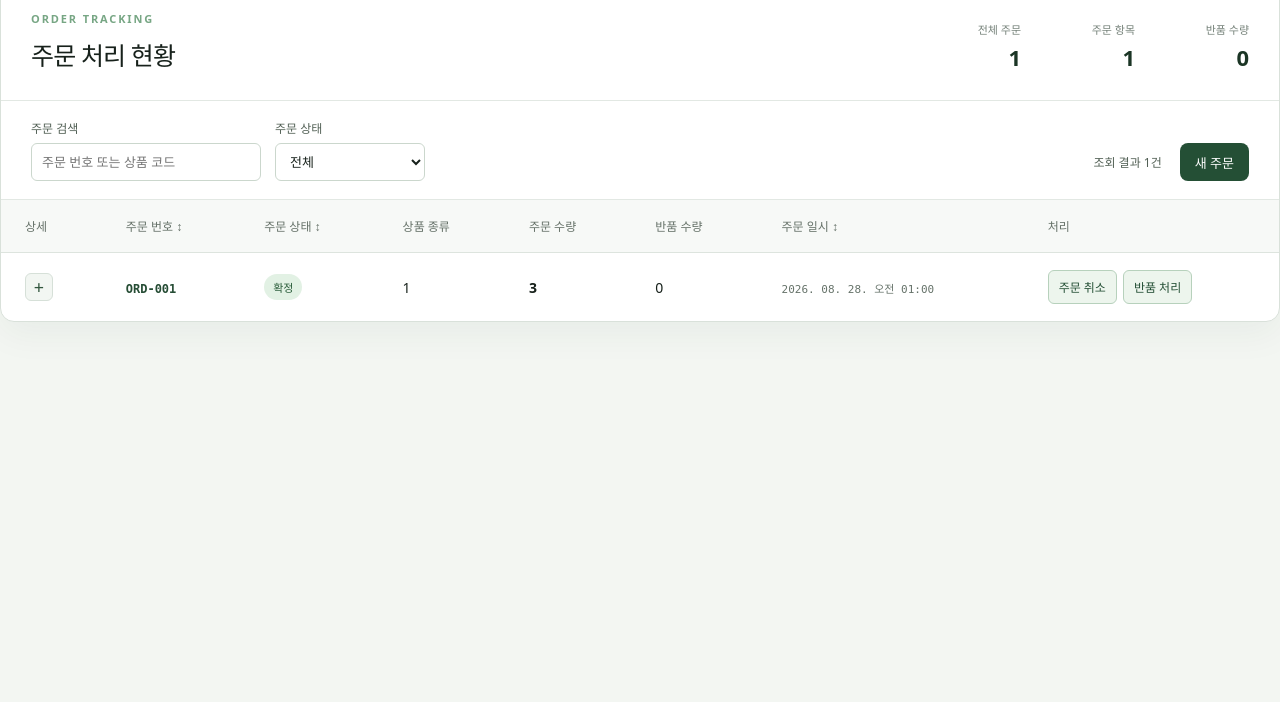
Test: OrderPage › 반품 요청 실패 후 같은 수량으로 재시도하면 멱등키를 재사용한다
Click the button with aria-label "ORD-001 반품 처리" at [1158, 287], box [1123,270,1192,304]
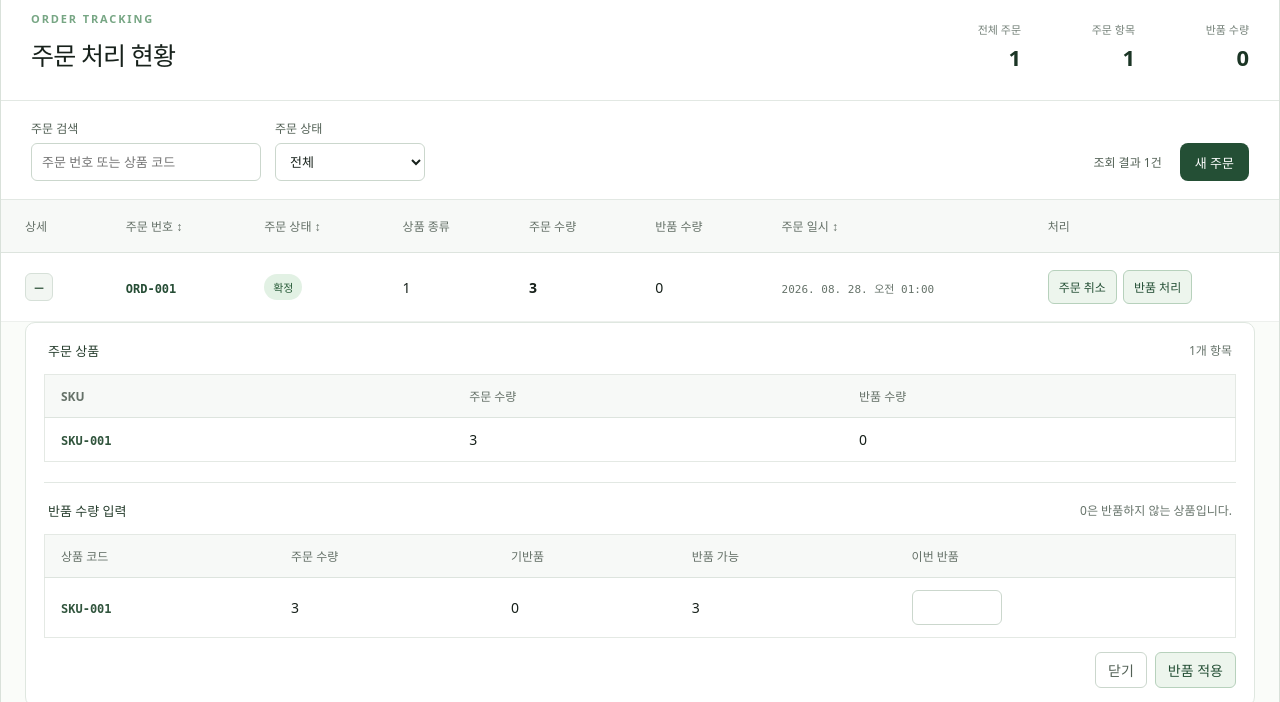
Type "3" into the number field named "SKU-001 반품 수량" at [957, 608], box [912,590,1002,625]
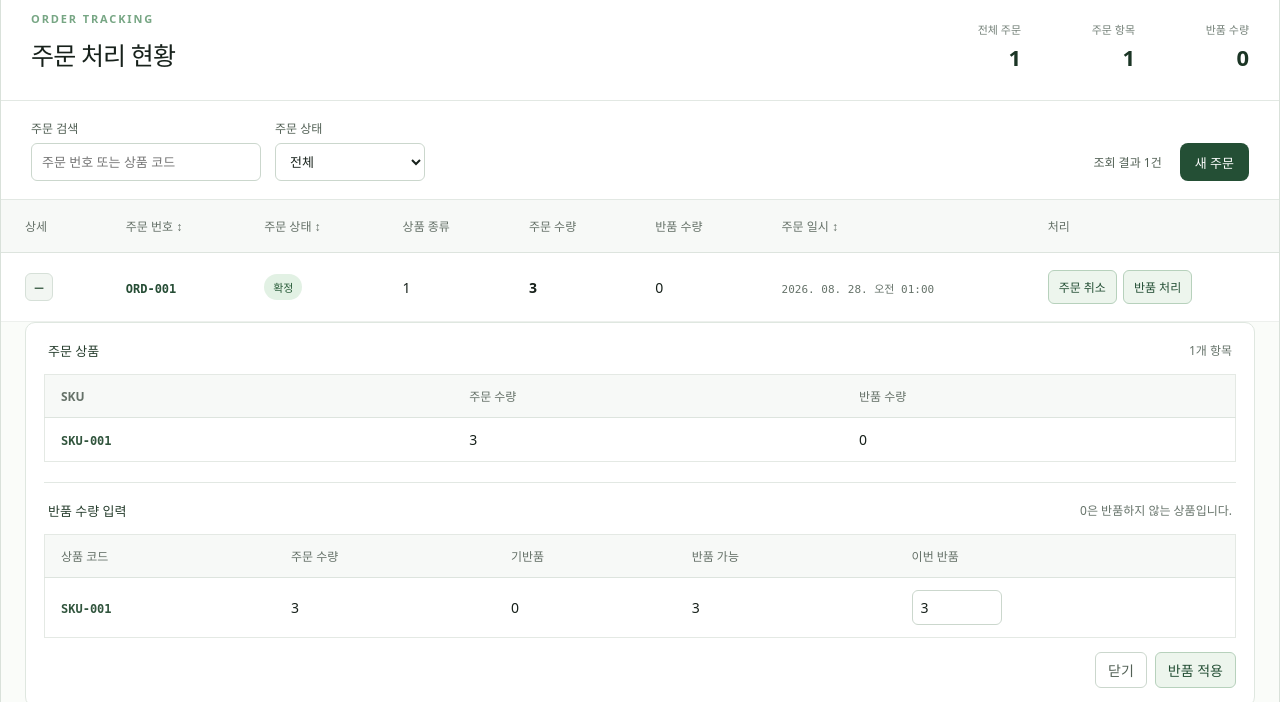
Click the button "반품 적용" at [1195, 670], box [1155,652,1236,688]
(page scrolled)
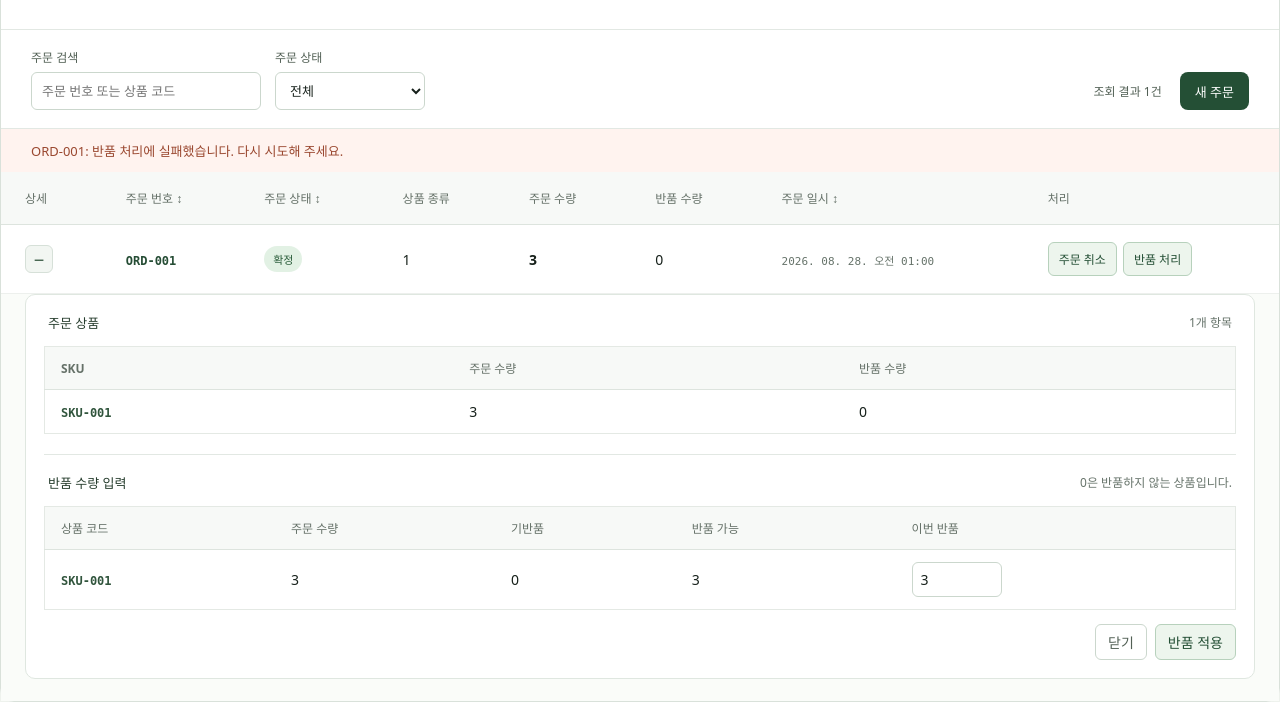
Expected: the message "ORD-001: 반품 처리에 실패했습니다. 다시 시도해 주세요." is shown, [1,129,1279,172]
Click the button "반품 적용" at [1195, 642], box [1155,624,1236,660]
(page scrolled)
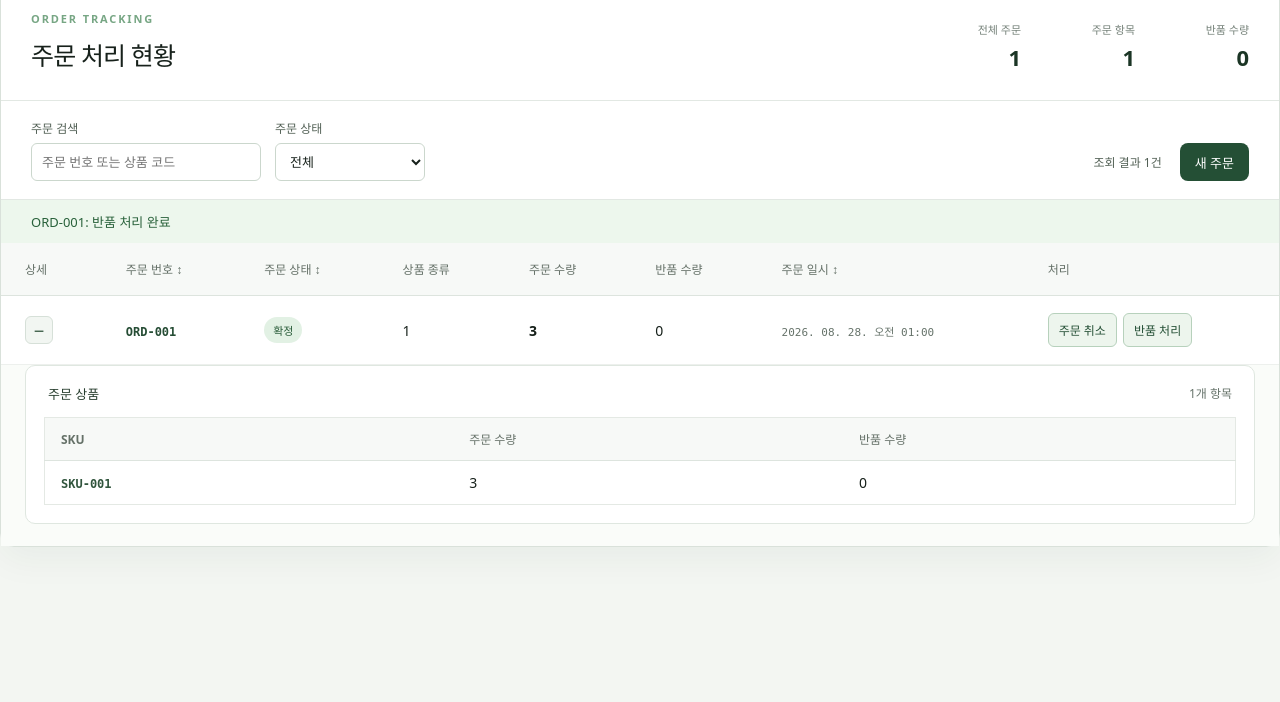
Expected: the text "ORD-001: 반품 처리 완료" is shown, [1,200,1279,243]
